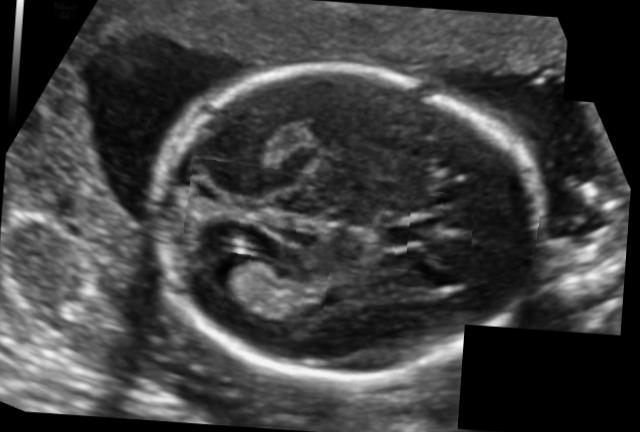CHOROID_PLEXUS: (222, 253, 330, 330)
CSP: (408, 194, 476, 262)
MIDLINE_FALX: (182, 164, 540, 282)
